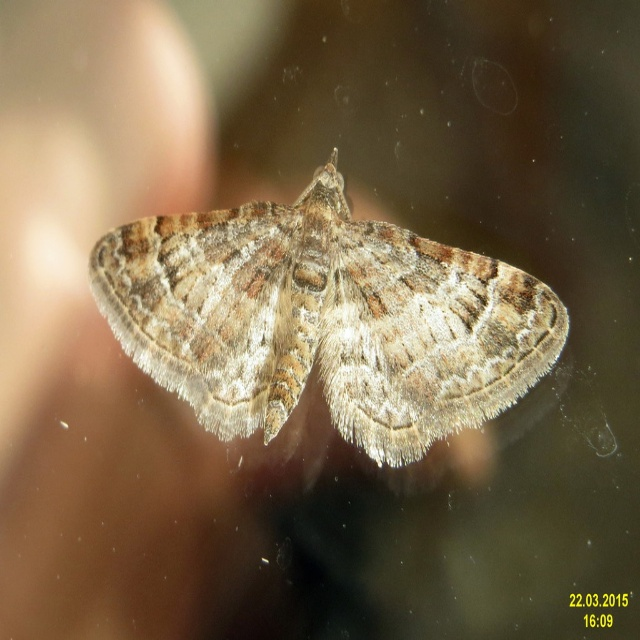Moths and butterflies: (87, 146, 572, 469)
